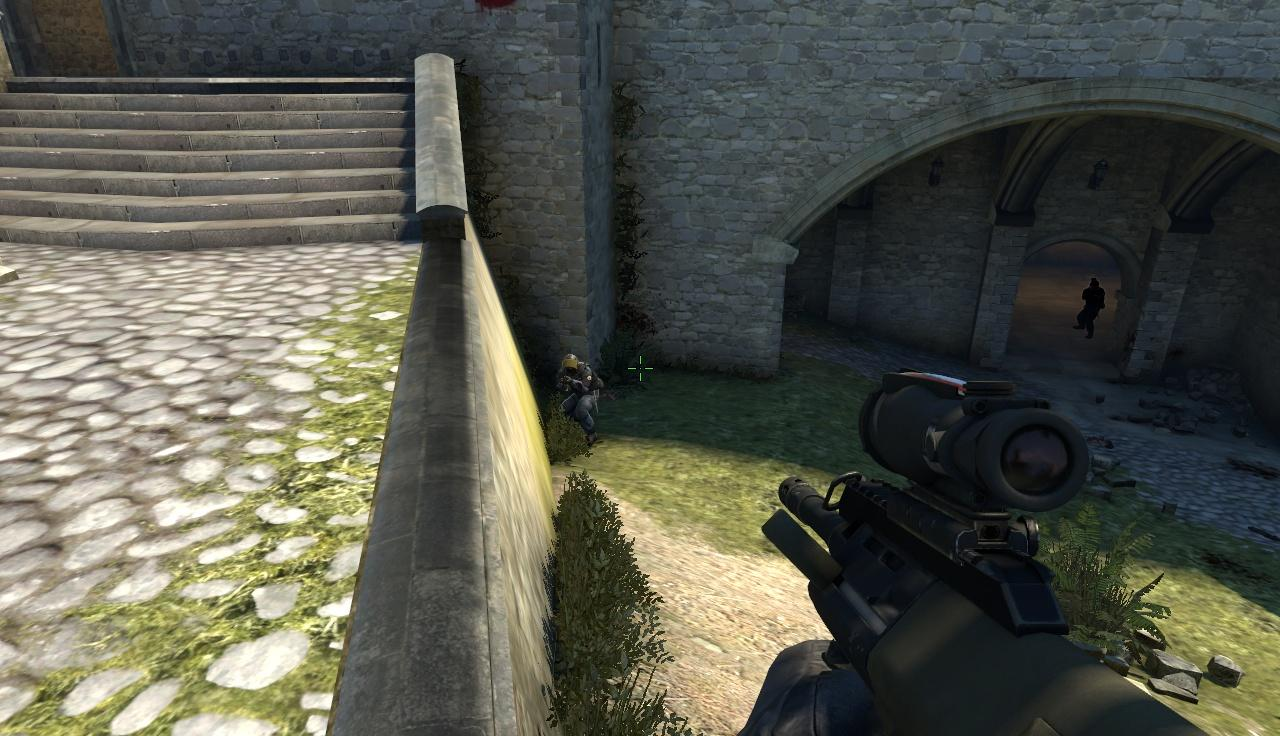ct: (560, 353, 598, 449), (1077, 279, 1104, 339)
cthead: (563, 354, 579, 373), (1090, 279, 1099, 290)
rifle: (757, 361, 1250, 731)
